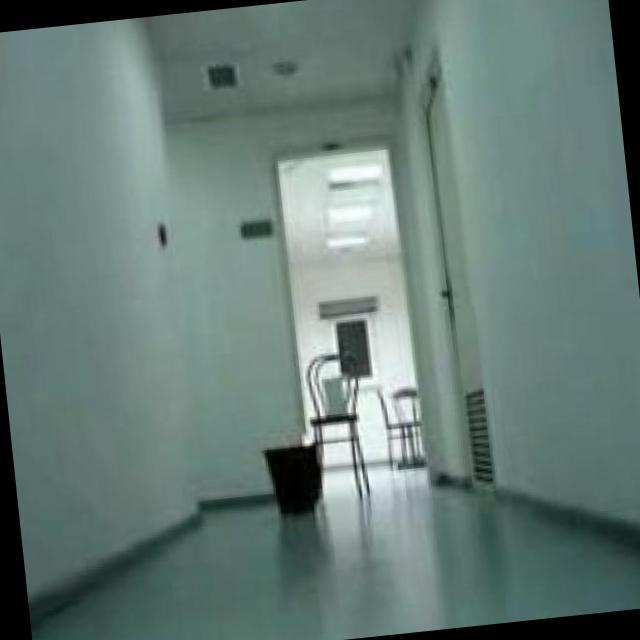Fire: (296, 435, 317, 451)
